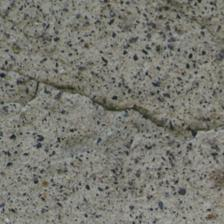Crack: (7, 35, 197, 108)
